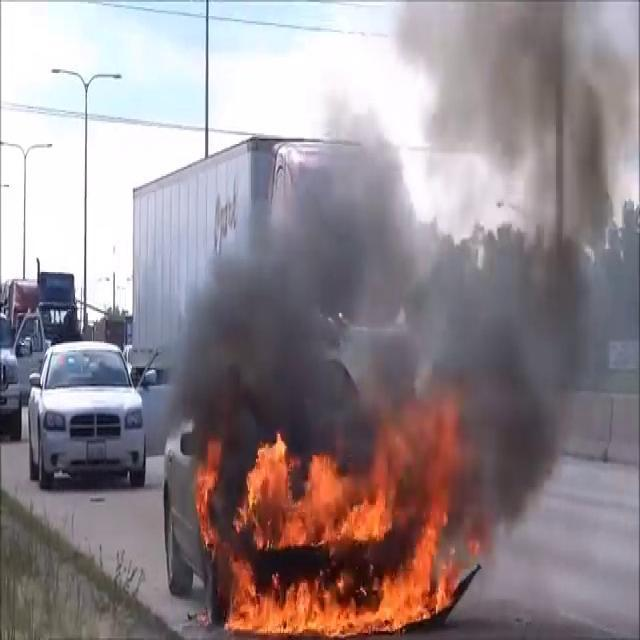Fire: (206, 422, 464, 636)
Smoke: (163, 1, 640, 477)
